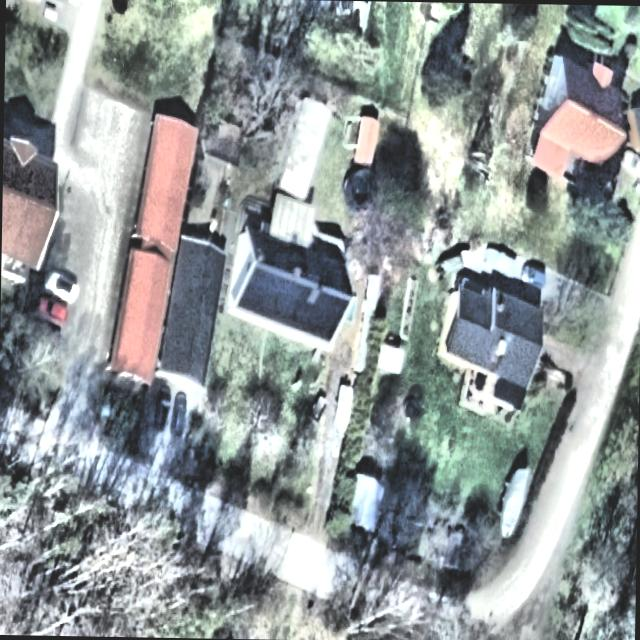roof_pv: (233, 266, 346, 360)
